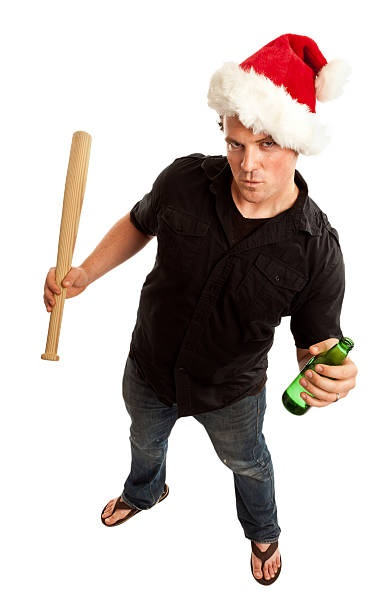bita: (37, 132, 92, 372)
